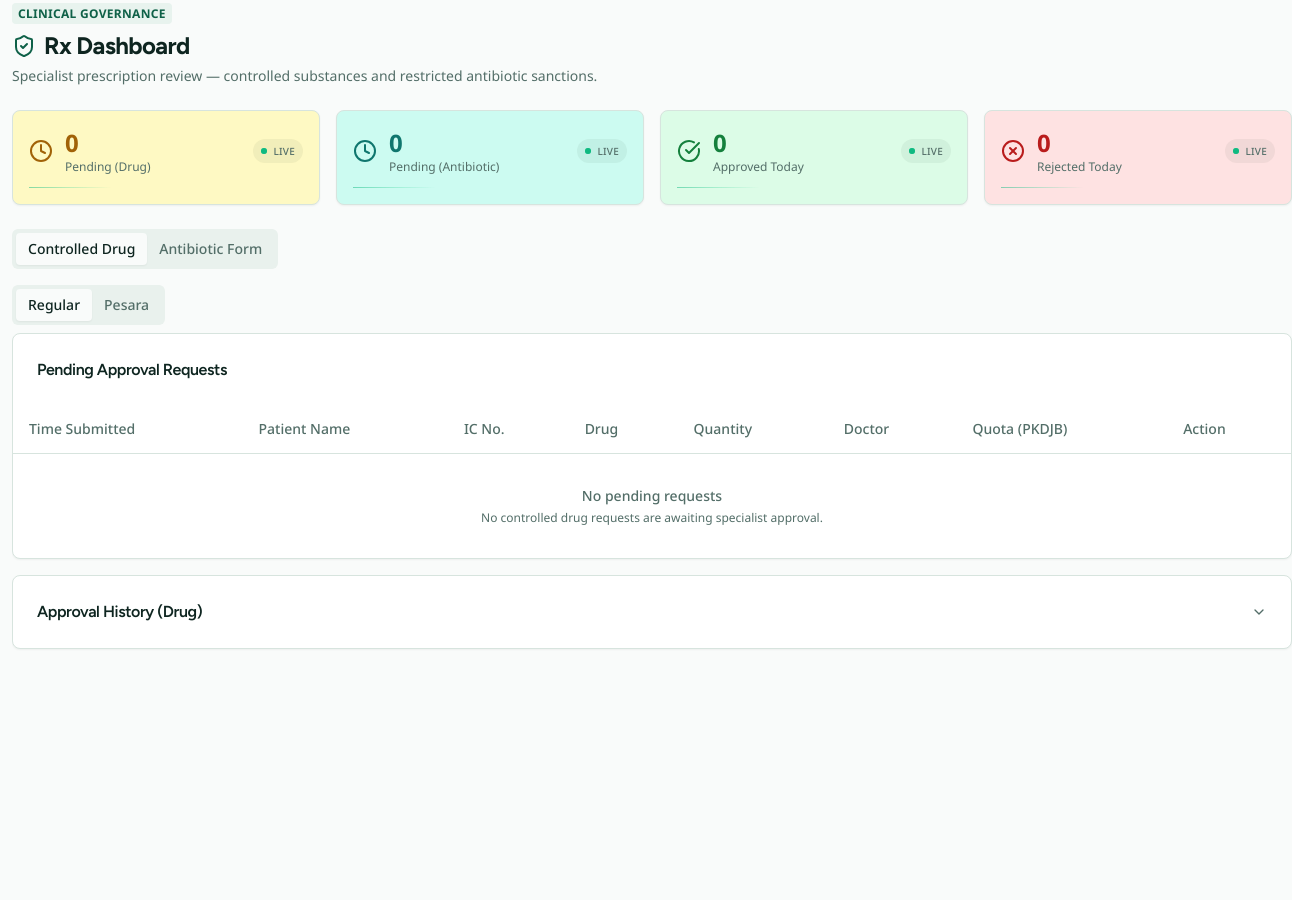
Test: SpecialistDashboard › Controlled Drug sub-tabs › Pesara tab shows correct empty state message when clicked
Click the tab "Pesara".
click(127, 305)  # box [92, 289, 161, 321]
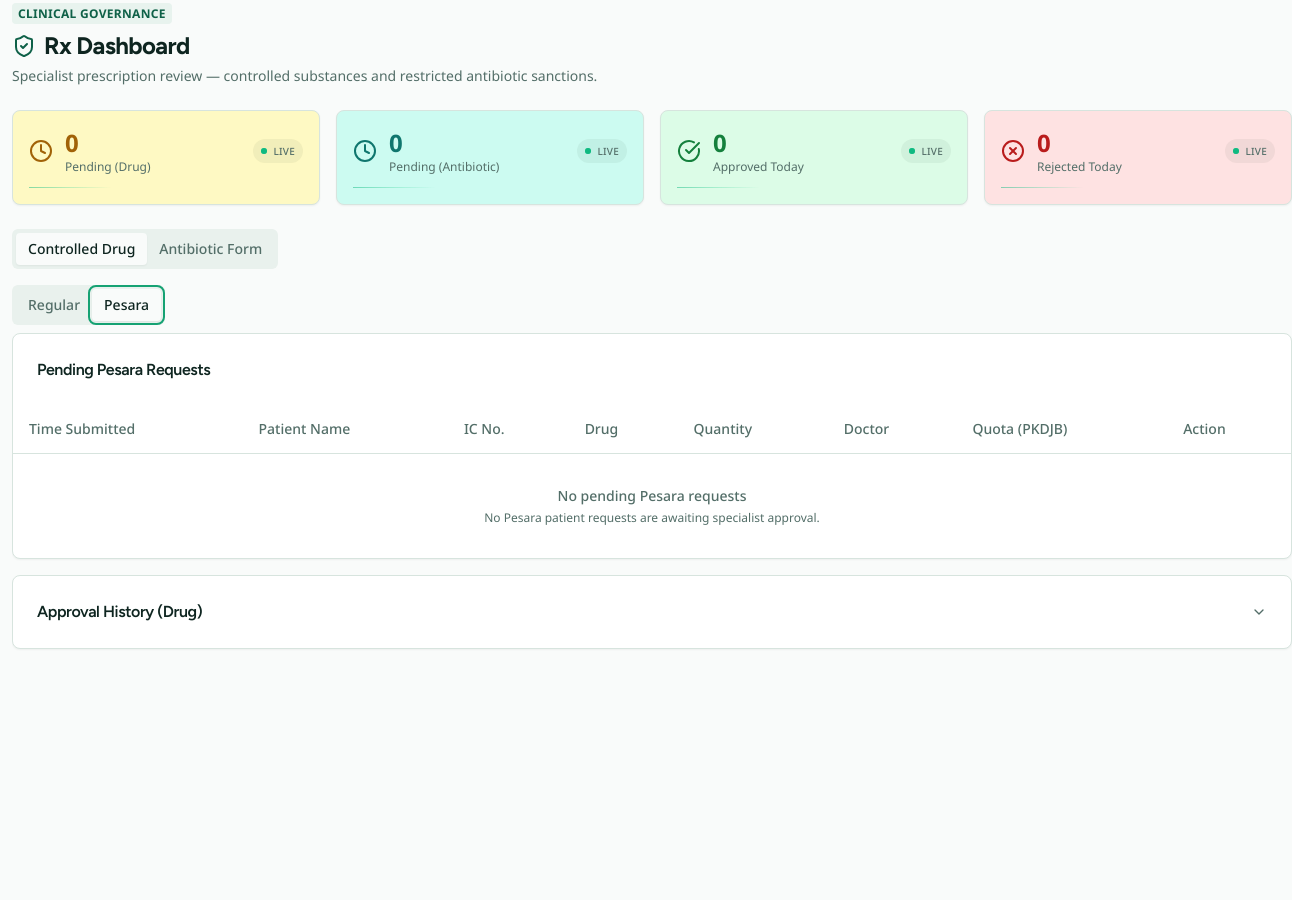
Now the text "No pending Pesara requests" is shown, box [558, 486, 746, 505]
